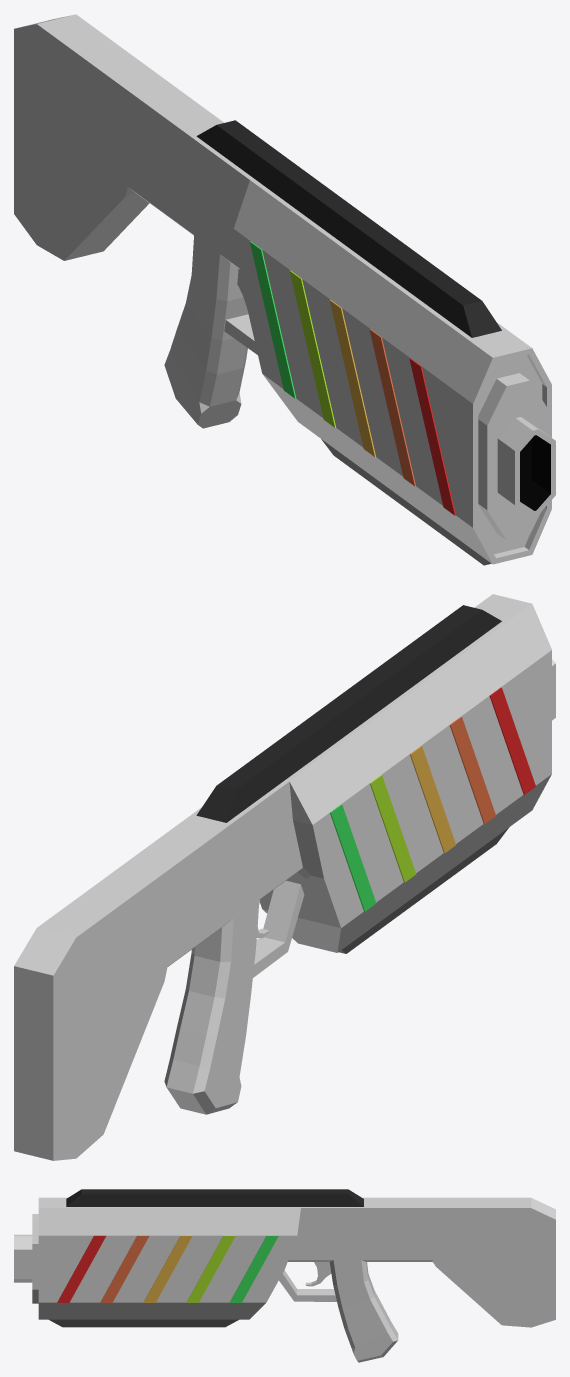
The model's file is Protogun_Gun.fbx.
3 views of the same model, one above another, from view 1: azimuth 30°, elevation 25°; view 2: azimuth 150°, elevation 25°; view 3: azimuth 270°, elevation 25° (orthographic). The views are drawn at different scales.
Visible parts, largest first — view 1: MSH_GUN.001; view 2: MSH_GUN.001; view 3: MSH_GUN.001.
Boxes of the visible parts, x1,y1,x2,y2 form: MSH_GUN.001: (14, 14, 555, 565); MSH_GUN.001: (14, 594, 555, 1160); MSH_GUN.001: (14, 1189, 555, 1362).
Bounding box in the file's own units: 4.11 × 15 × 44.
